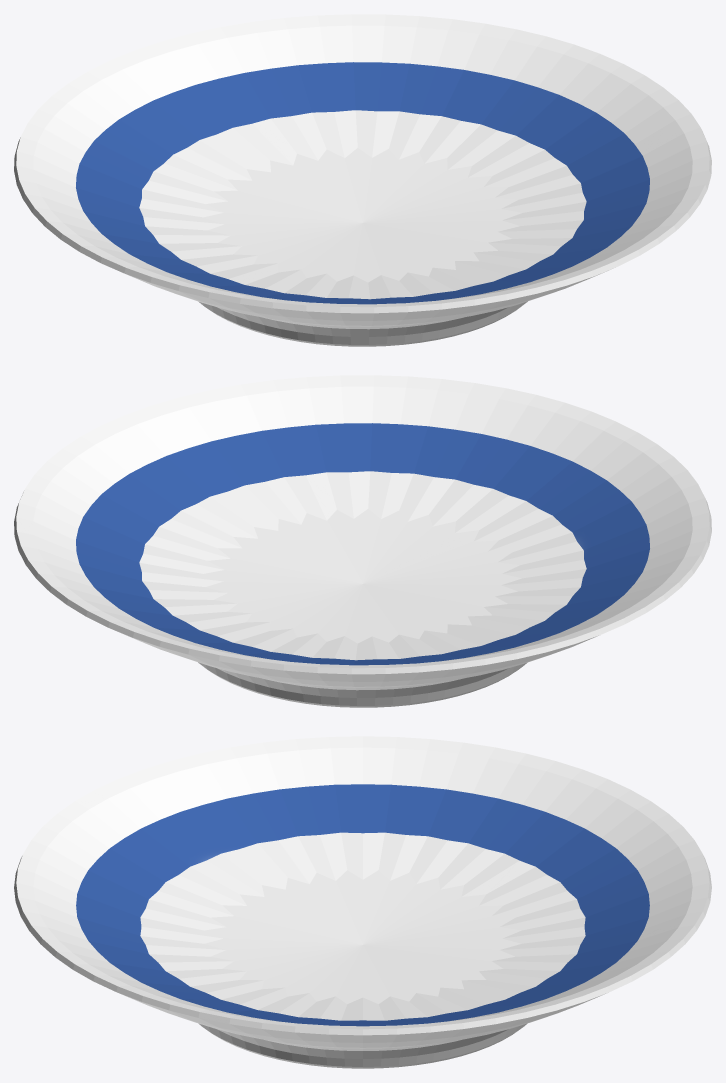
Rendered from Dish.fbx.
3 views of the same model, one above another, from view 1: azimuth 30°, elevation 25°; view 2: azimuth 150°, elevation 25°; view 3: azimuth 270°, elevation 25° (orthographic).
Visible parts, largest first — view 1: Dish; view 2: Dish; view 3: Dish.
Boxes of the visible parts, x1,y1,x2,y2 form: Dish: (14,14,711,346); Dish: (14,375,711,707); Dish: (14,736,711,1068).
Bounding box in the file's own units: 11.92 × 2.08 × 11.92.
